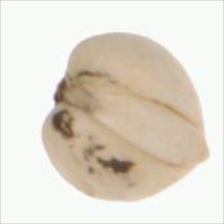L5: (87, 91, 215, 170), (45, 68, 119, 140)
L6: (38, 31, 215, 205)
